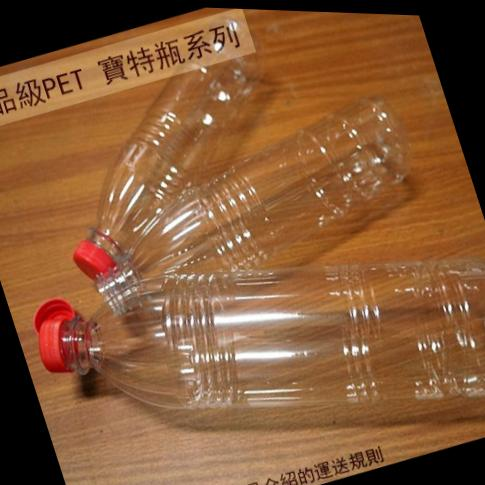plastic: (30, 178, 485, 485), (28, 1, 427, 310)
